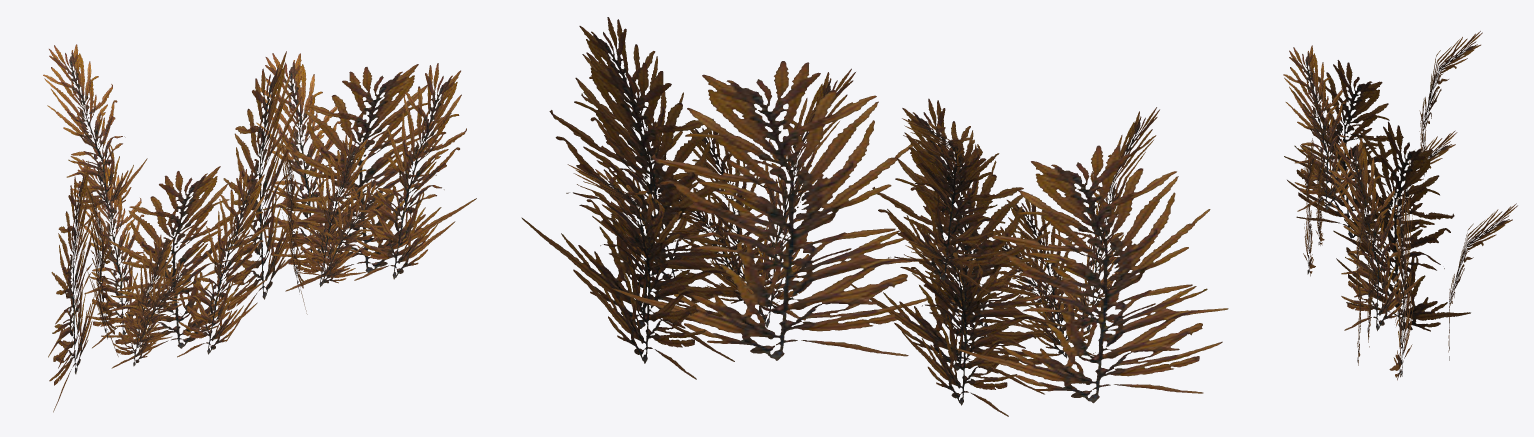
File: Model_WaterPlant_05.fbx
3 views of the same model, side by side, from view 1: azimuth 30°, elevation 25°; view 2: azimuth 150°, elevation 25°; view 3: azimuth 270°, elevation 25° (orthographic). The views are drawn at different scales.
Visible parts, largest first — view 1: WaterPlant_05; view 2: WaterPlant_05; view 3: WaterPlant_05.
Part boxes in pixels (x1,y1,x2,y2): WaterPlant_05: (43, 44, 476, 412); WaterPlant_05: (521, 17, 1228, 416); WaterPlant_05: (1283, 31, 1517, 380).
Size of the model in its own units: 283 by 145 by 147.
